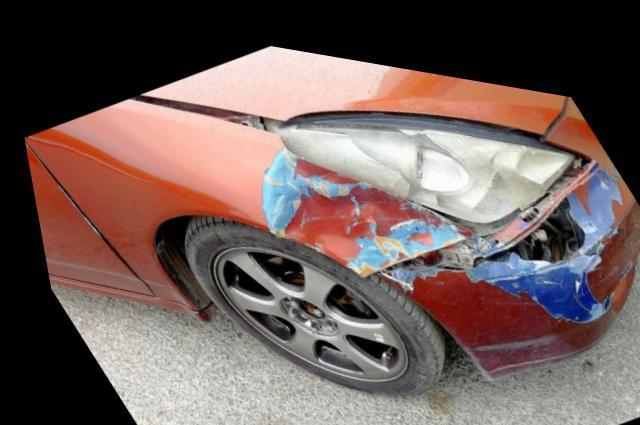dent: (265, 144, 469, 265)
lamp broken: (281, 99, 573, 211)
